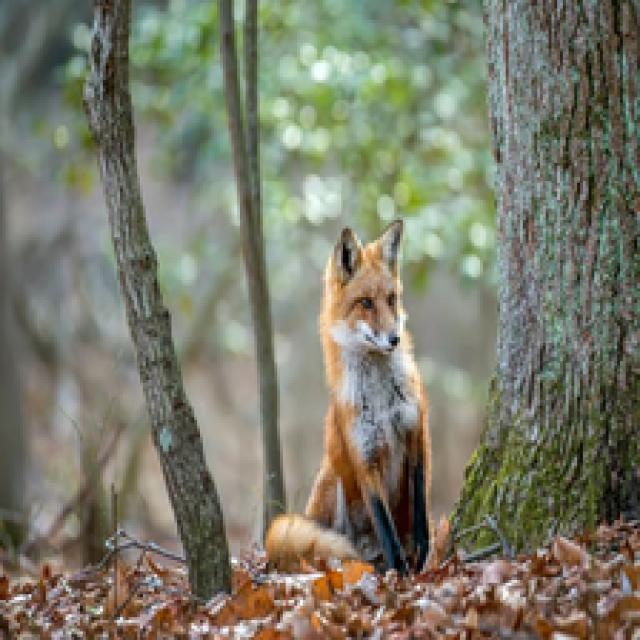fox: (264, 211, 455, 596)
